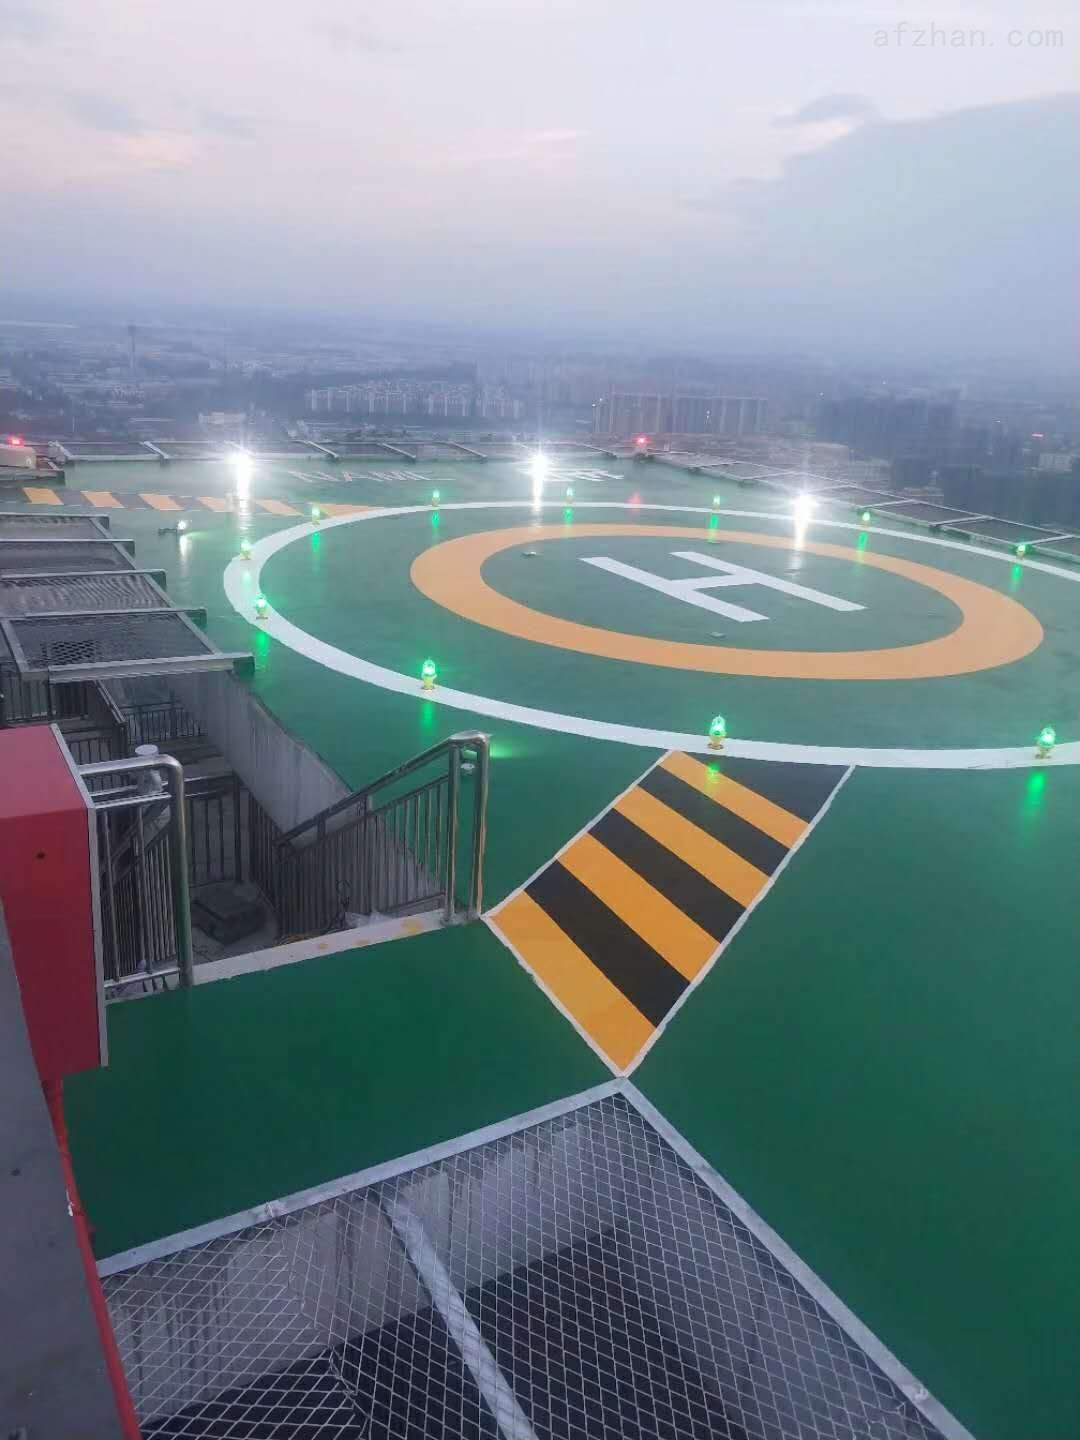H: (576, 548, 868, 622)
